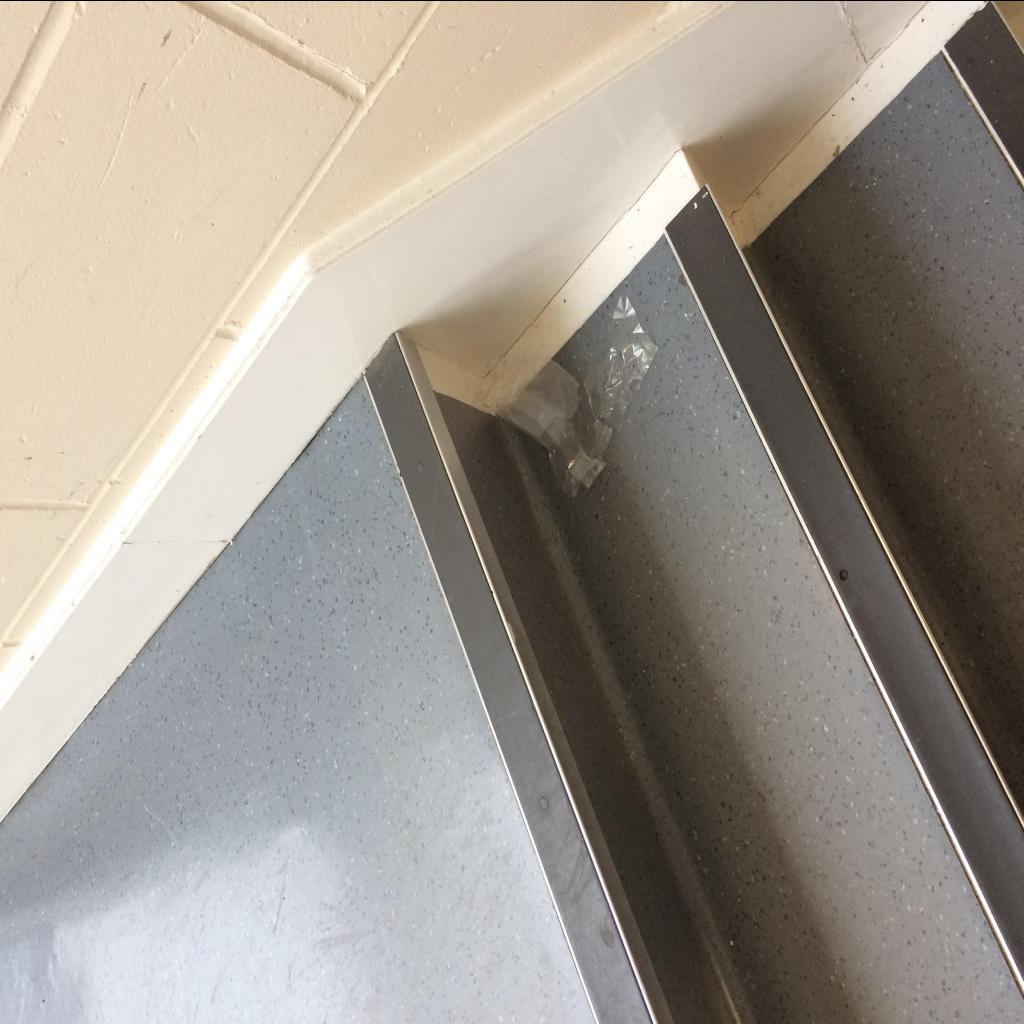Plastic film: (483, 294, 659, 496)
